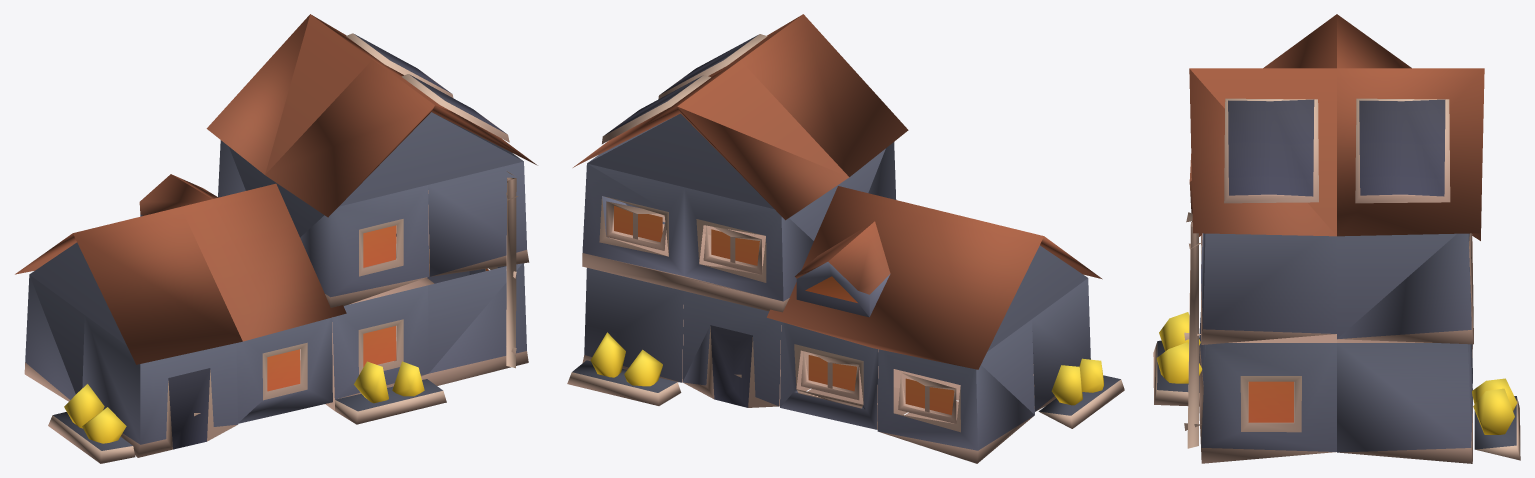
The model's file is casa_b.fbx.
The picture shows the model from 3 angles, left to right: view 1: azimuth 30°, elevation 25°; view 2: azimuth 150°, elevation 25°; view 3: azimuth 270°, elevation 25°; orthographic projection. The views are drawn at different scales.
Visible parts, largest first — view 1: casa_b; view 2: casa_b; view 3: casa_b.
Boxes of the visible parts, x1=… form: casa_b: x1=15, y1=14, x2=537, y2=463; casa_b: x1=567, y1=14, x2=1124, y2=463; casa_b: x1=1153, y1=14, x2=1520, y2=463.
Bounding box in the file's own units: 1.81 × 1.14 × 1.12.
